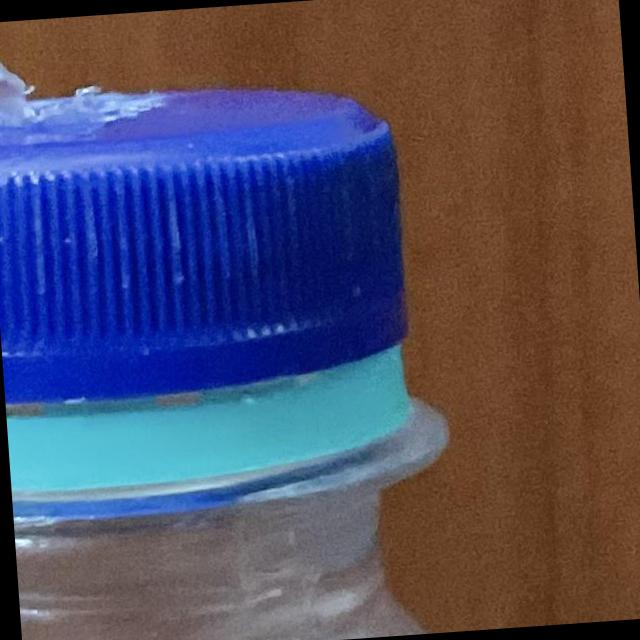Good-cap-Df0S: (0, 46, 460, 500)
